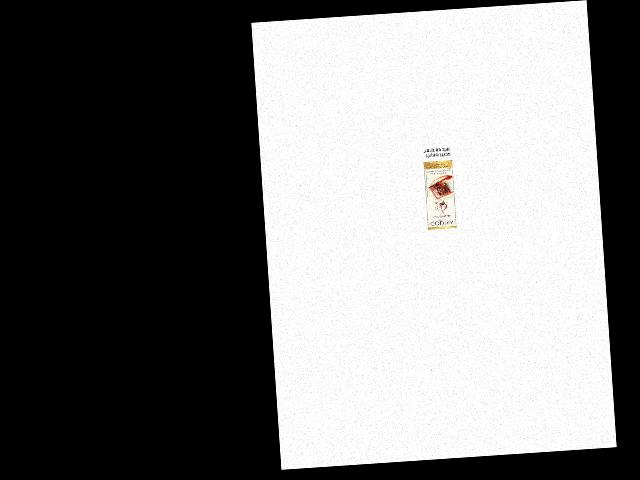chocolate: (423, 157, 459, 231)
